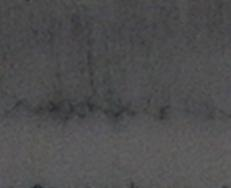fissura: (0, 44, 230, 129)
